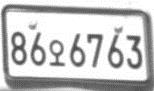3: (125, 34, 143, 69)
6: (107, 34, 124, 68), (69, 32, 85, 67), (30, 32, 46, 65)
7: (86, 32, 103, 67)
8: (10, 31, 28, 65)
오: (48, 38, 66, 67)
